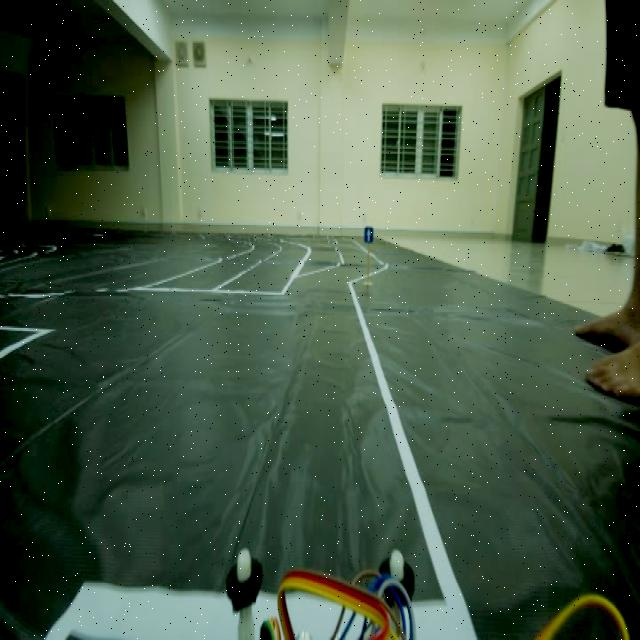onewayroad: (363, 220, 378, 249)
